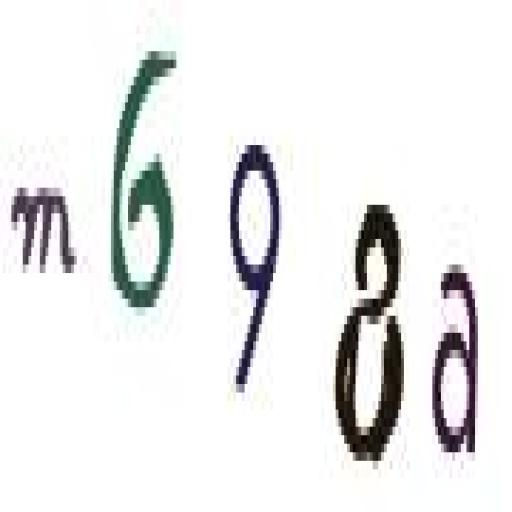6: (101, 30, 182, 334)
8: (331, 186, 412, 476)
9: (220, 128, 284, 402)
a: (428, 246, 487, 475)
m: (8, 174, 77, 290)
